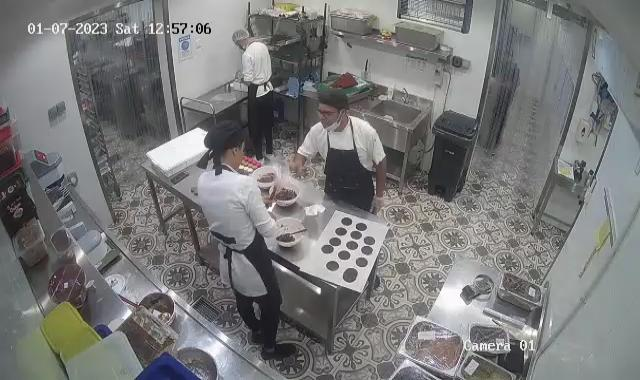hairnet: (232, 27, 252, 45)
no_hairnet: (205, 119, 248, 155), (318, 88, 350, 117)
